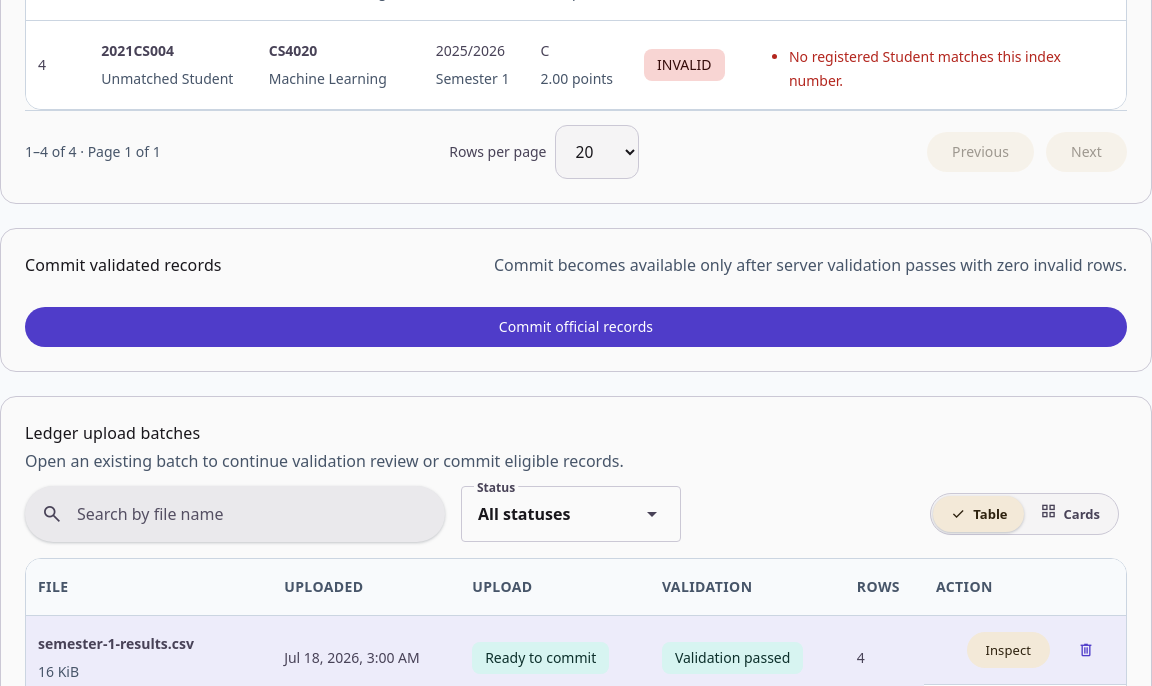
it: Academic Ledger transactional commit › requires explicit confirmation, sends confirm true, and reports the result
The width and height of the screenshot is (1152, 686).
(page scrolled)
Click the button "Commit official records".
click(576, 326)  # box [25,306,1127,346]
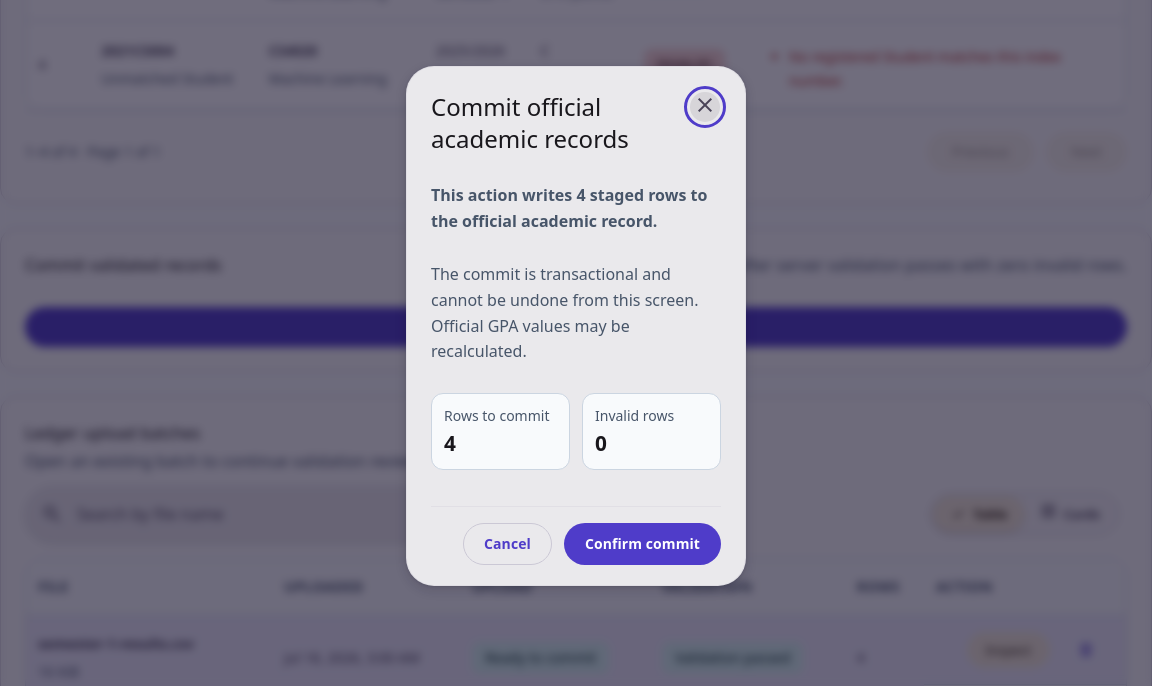
Now the dialog "Commit official academic records" is shown, box [406,66,746,586]
Click the button "Confirm commit".
click(642, 544)  # box [564,523,721,565]
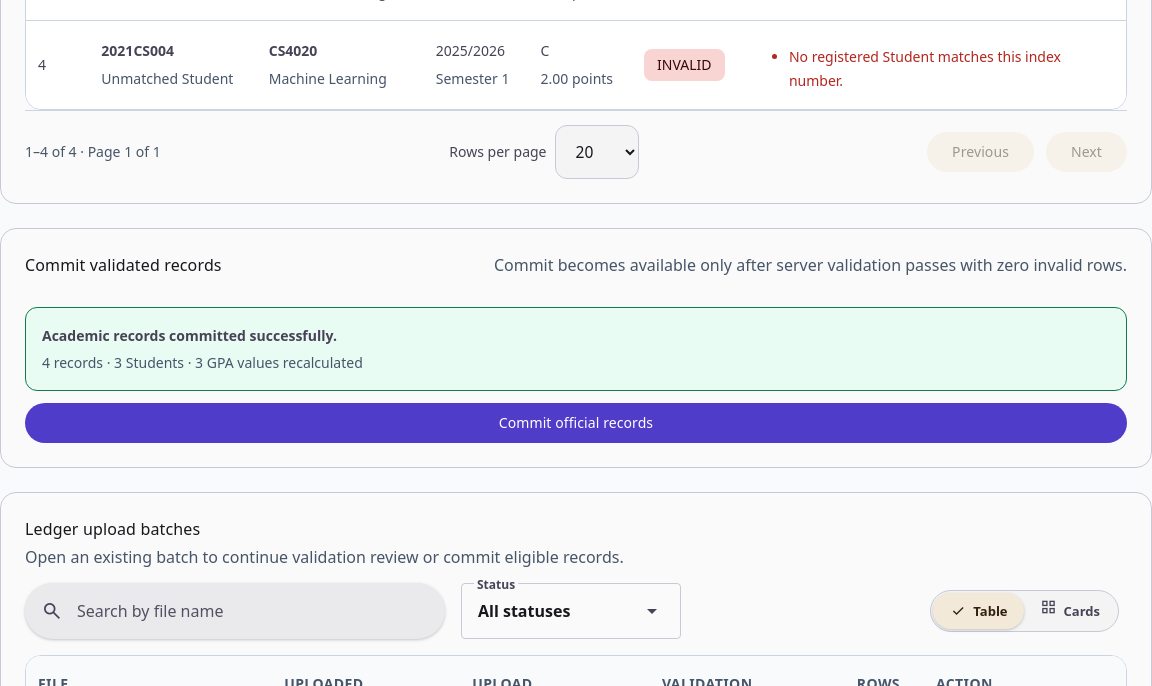
Now the text "Academic records committed successfully." is shown, box [42,326,337,344]
